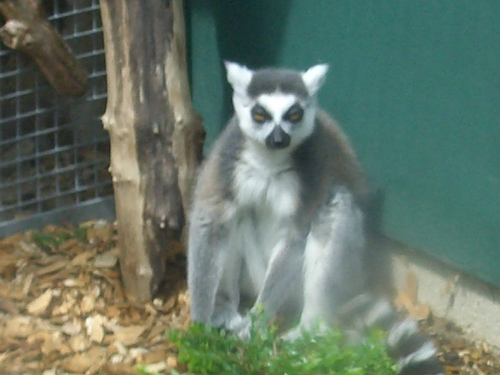cat: (184, 58, 445, 372)
